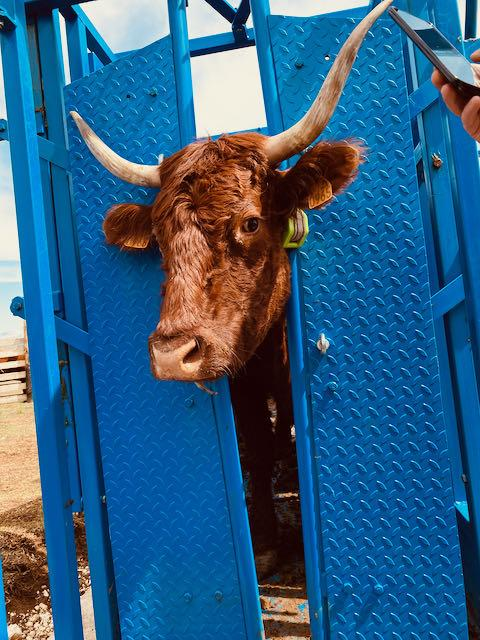muzzles: (140, 339, 219, 385)
